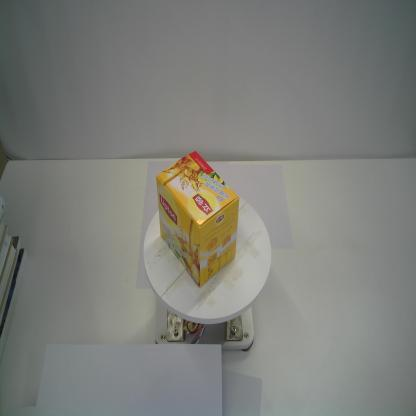Instant Drink: (155, 150, 240, 288)
